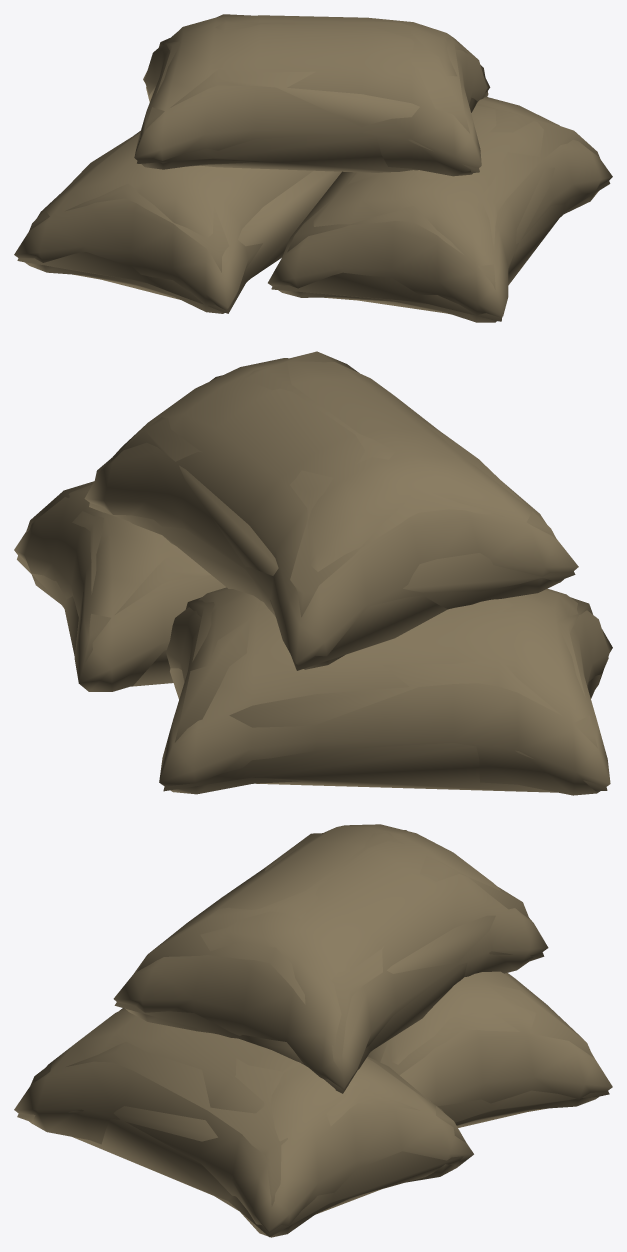
File: Bags.fbx
The picture shows the model from 3 angles, top to bottom: view 1: azimuth 30°, elevation 25°; view 2: azimuth 150°, elevation 25°; view 3: azimuth 270°, elevation 25°; orthographic projection. The views are drawn at different scales.
Parts seen in each view (by area): view 1: High_Bags, Low_Bags; view 2: High_Bags, Low_Bags; view 3: High_Bags, Low_Bags.
Part boxes in pixels (x1,y1,x2,y2): High_Bags: [14, 15, 612, 322]; Low_Bags: [17, 14, 610, 321]; High_Bags: [14, 358, 612, 795]; Low_Bags: [17, 351, 608, 792]; High_Bags: [14, 824, 612, 1237]; Low_Bags: [17, 830, 609, 1237].
Bounding box in the file's own units: 26.97 × 10.73 × 23.92.
